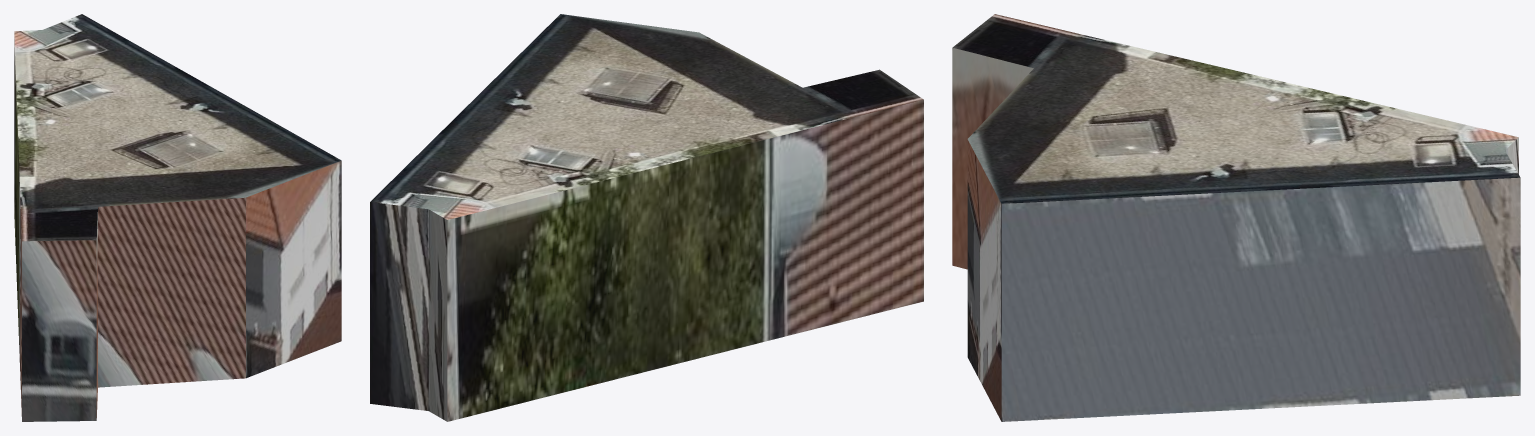
3 views of the same model, side by side, from view 1: azimuth 30°, elevation 25°; view 2: azimuth 150°, elevation 25°; view 3: azimuth 270°, elevation 25° (orthographic). The views are drawn at different scales.
Visible parts, largest first — view 1: Z_UP; view 2: Z_UP; view 3: Z_UP.
Part boxes in pixels (left/top/right/bottom): Z_UP: left=14, top=14, right=341, bottom=421; Z_UP: left=370, top=14, right=923, bottom=421; Z_UP: left=952, top=14, right=1520, bottom=421.
Size of the model in its own units: 12.89 by 6.9 by 16.3.
2 materials, 1 textured.
